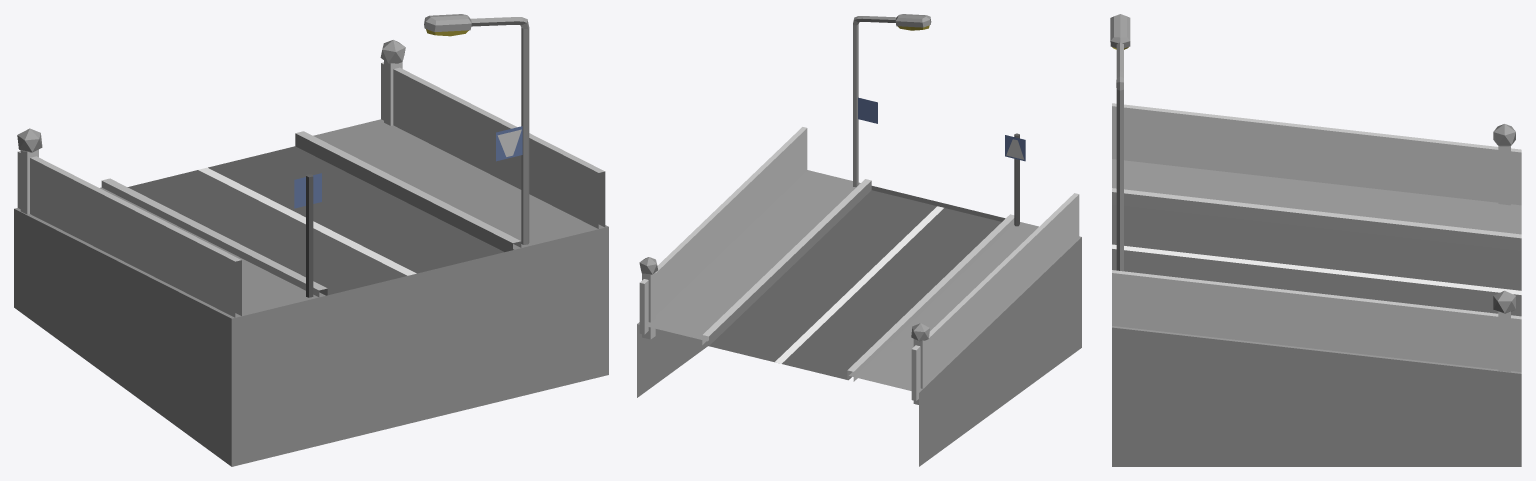
File: road_tile_bridge_1x1_002.fbx
The picture shows the model from 3 angles, left to right: view 1: azimuth 30°, elevation 25°; view 2: azimuth 150°, elevation 25°; view 3: azimuth 270°, elevation 25°; orthographic projection. The views are drawn at different scales.
Parts seen in each view (by area): view 1: road_tile_bridge_1x1_002; view 2: road_tile_bridge_1x1_002; view 3: road_tile_bridge_1x1_002.
Part boxes in pixels (<box>): road_tile_bridge_1x1_002: <box>14,14,608,466</box>; road_tile_bridge_1x1_002: <box>637,14,1081,466</box>; road_tile_bridge_1x1_002: <box>1110,14,1521,466</box>.
Bounding box in the file's own units: 818 × 804 × 803.
